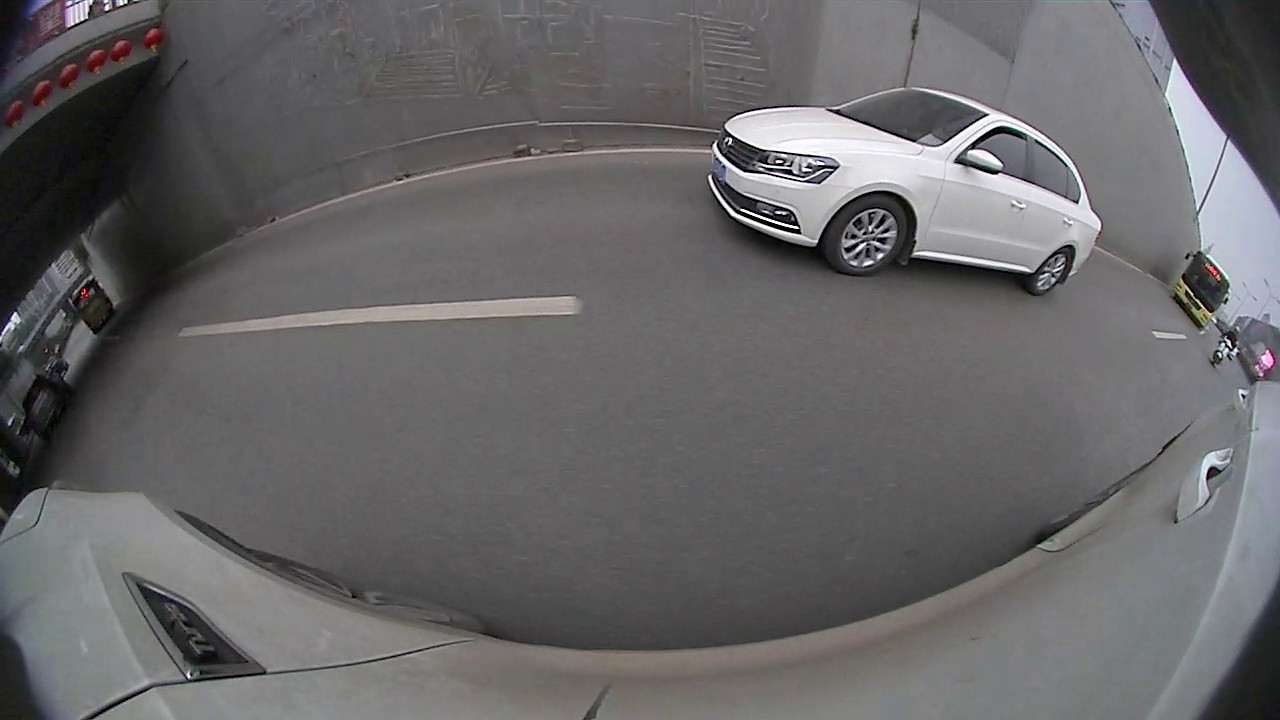bus: (1108, 188, 1277, 335)
car: (130, 132, 469, 337), (1140, 301, 1279, 472), (520, 151, 585, 201)
front: (1176, 375, 1257, 474), (435, 192, 470, 245), (1155, 284, 1194, 324)
rear: (268, 232, 350, 325)
rider: (1082, 227, 1148, 309)
truck: (583, 2, 944, 229)
